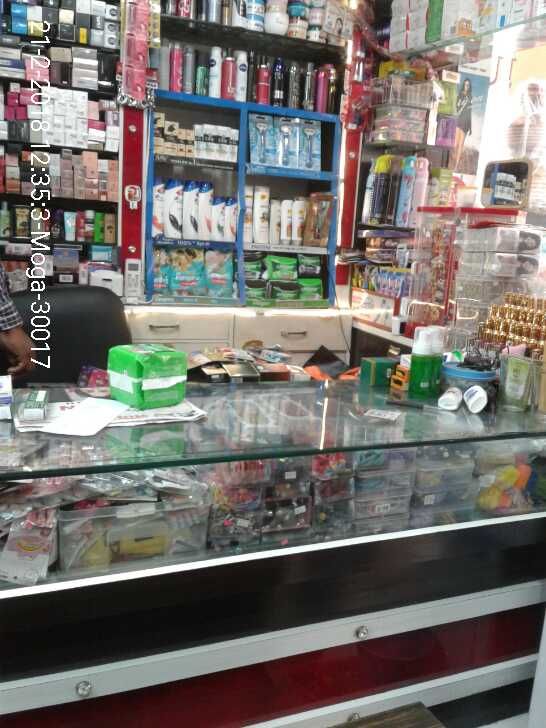venus: (276, 118, 299, 170), (249, 118, 276, 161), (299, 120, 322, 170)
